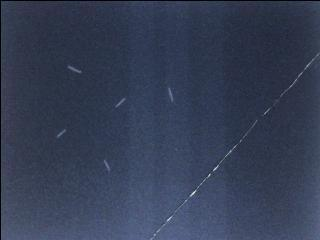crack: (150, 52, 319, 240)
scratch: (65, 61, 84, 77), (115, 96, 127, 108), (103, 158, 112, 173), (56, 127, 67, 138), (167, 87, 175, 102)
